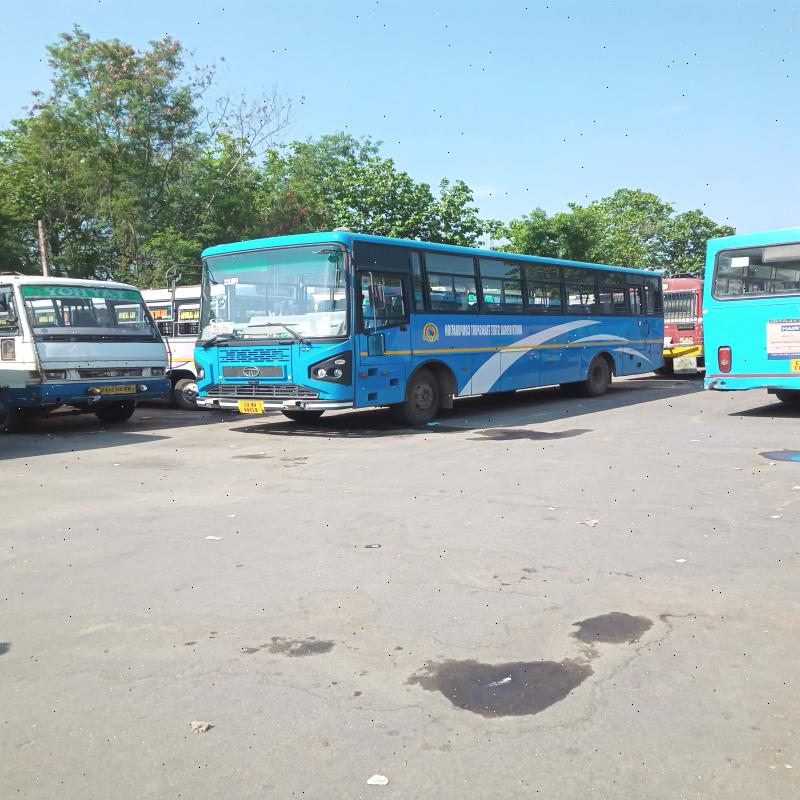bus: (201, 248, 661, 423)
